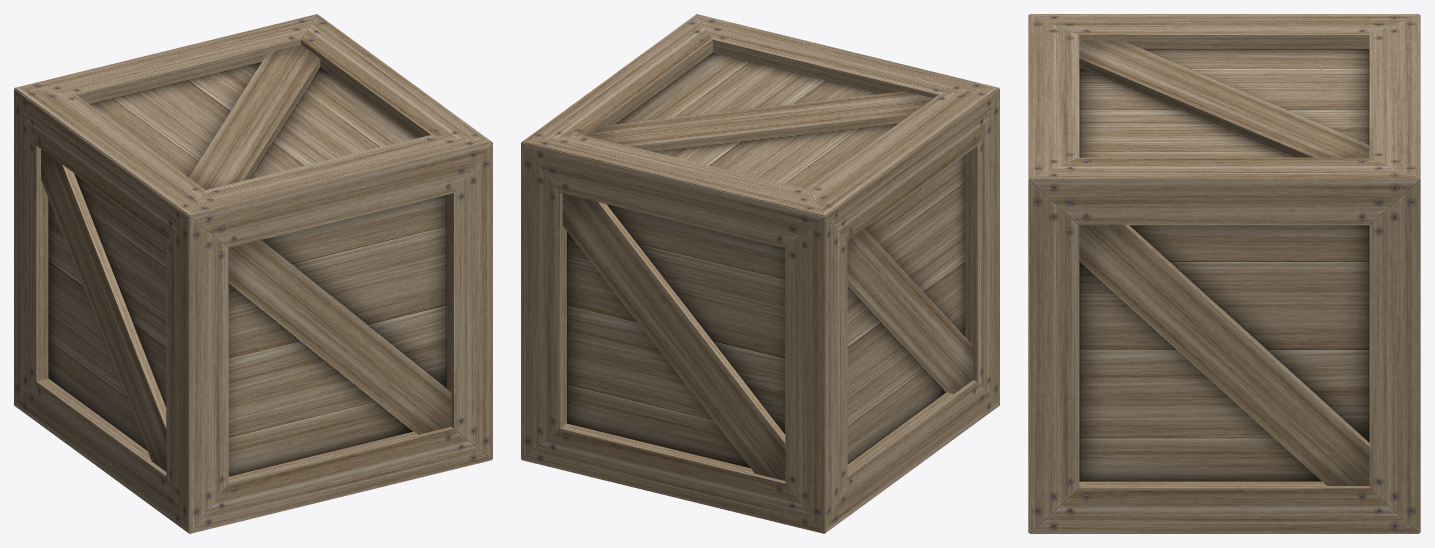
File: crate.dae
3 renders of one model, left to right at view 1: azimuth 30°, elevation 25°; view 2: azimuth 150°, elevation 25°; view 3: azimuth 270°, elevation 25°, orthographic. The views are drawn at different scales.
Parts seen in each view (by area): view 1: Crate1; view 2: Crate1; view 3: Crate1.
Part boxes in pixels (x1,y1,x2,y2): Crate1: (14, 14, 492, 533); Crate1: (521, 14, 999, 533); Crate1: (1028, 14, 1420, 533).
Size of the model in its own units: 1 by 1 by 1.
1 material, 1 textured.
